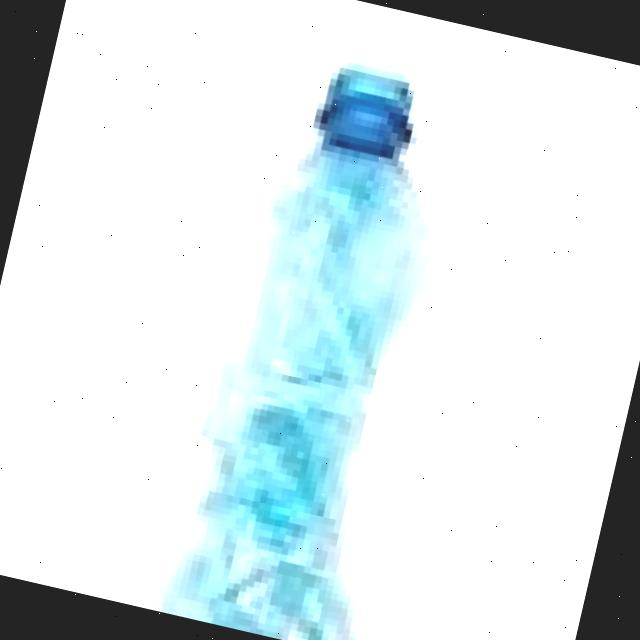trash: (133, 27, 504, 640)
